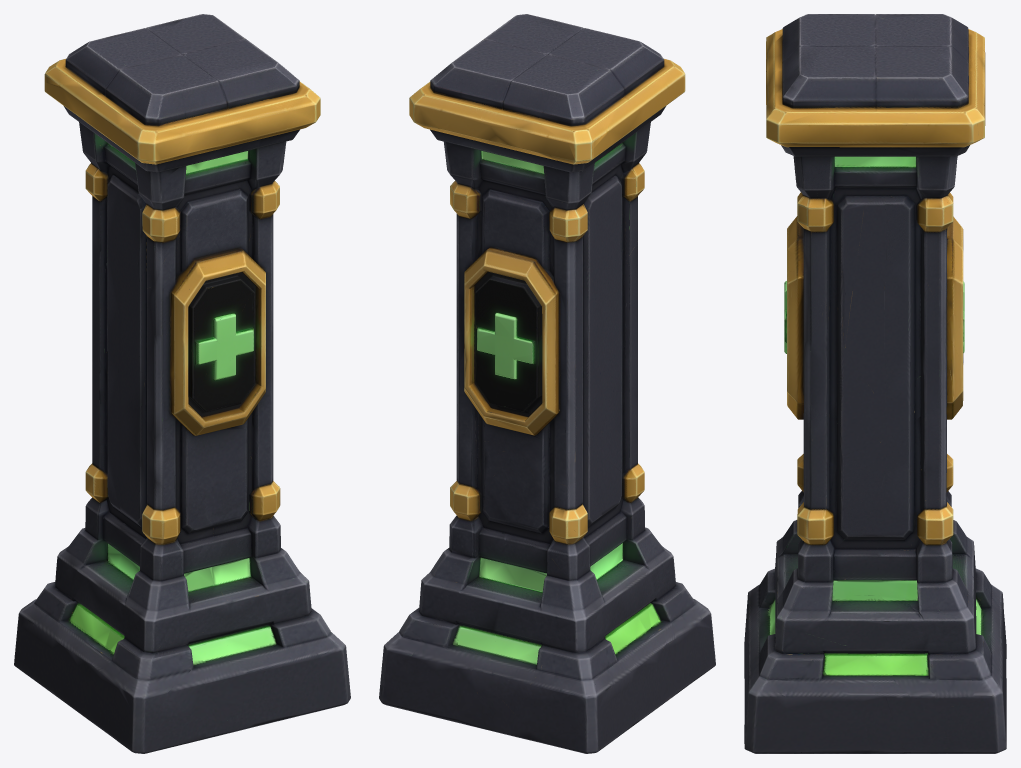
Rendered from heal.glb.
3 views of the same model, side by side, from view 1: azimuth 30°, elevation 25°; view 2: azimuth 150°, elevation 25°; view 3: azimuth 270°, elevation 25° (orthographic). The views are drawn at different scales.
Size of the model in its own units: 0.6916 by 1.9 by 0.6916.
Materials: 1 (1 with a texture image).
